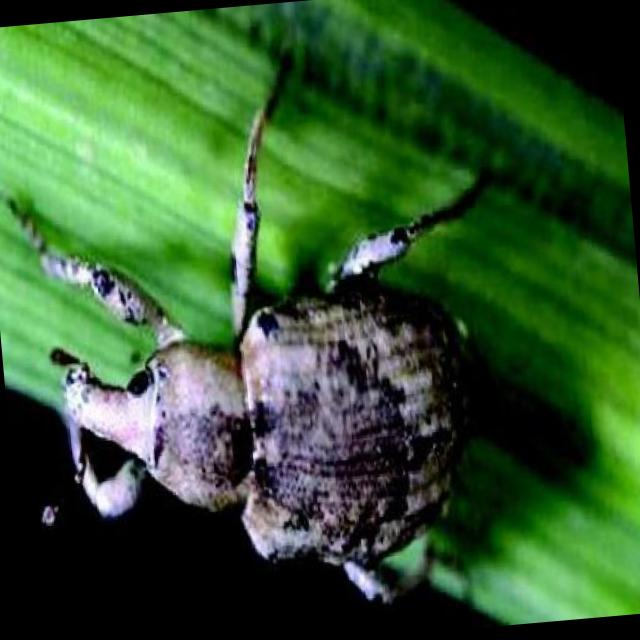rice-bug: (32, 150, 486, 623)
